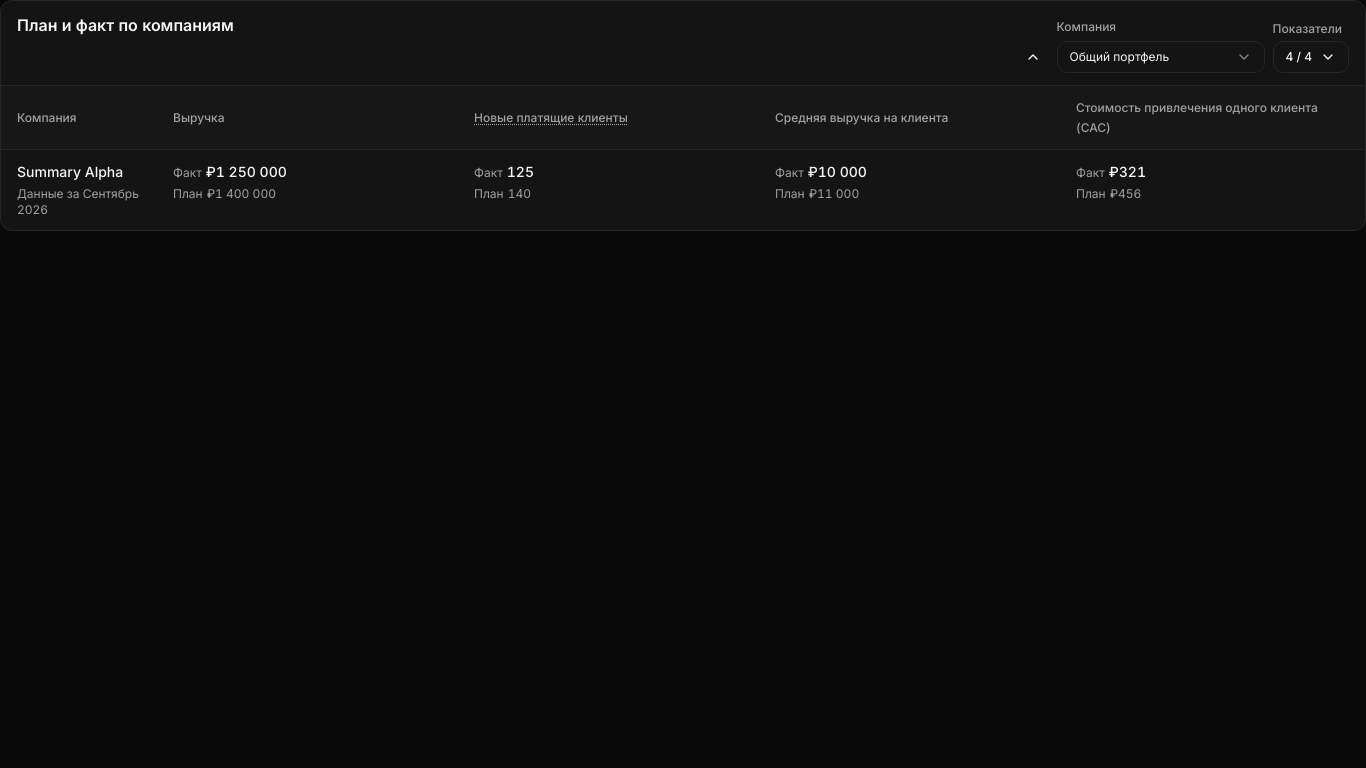
PortfolioPlanFactTable › uses Fact period instead of lastUpdate and explains business-model-dependent newUnits
The width and height of the screenshot is (1366, 768).
Click the button "Новые платящие клиенты" at [551, 118], box [474,108,628,127]
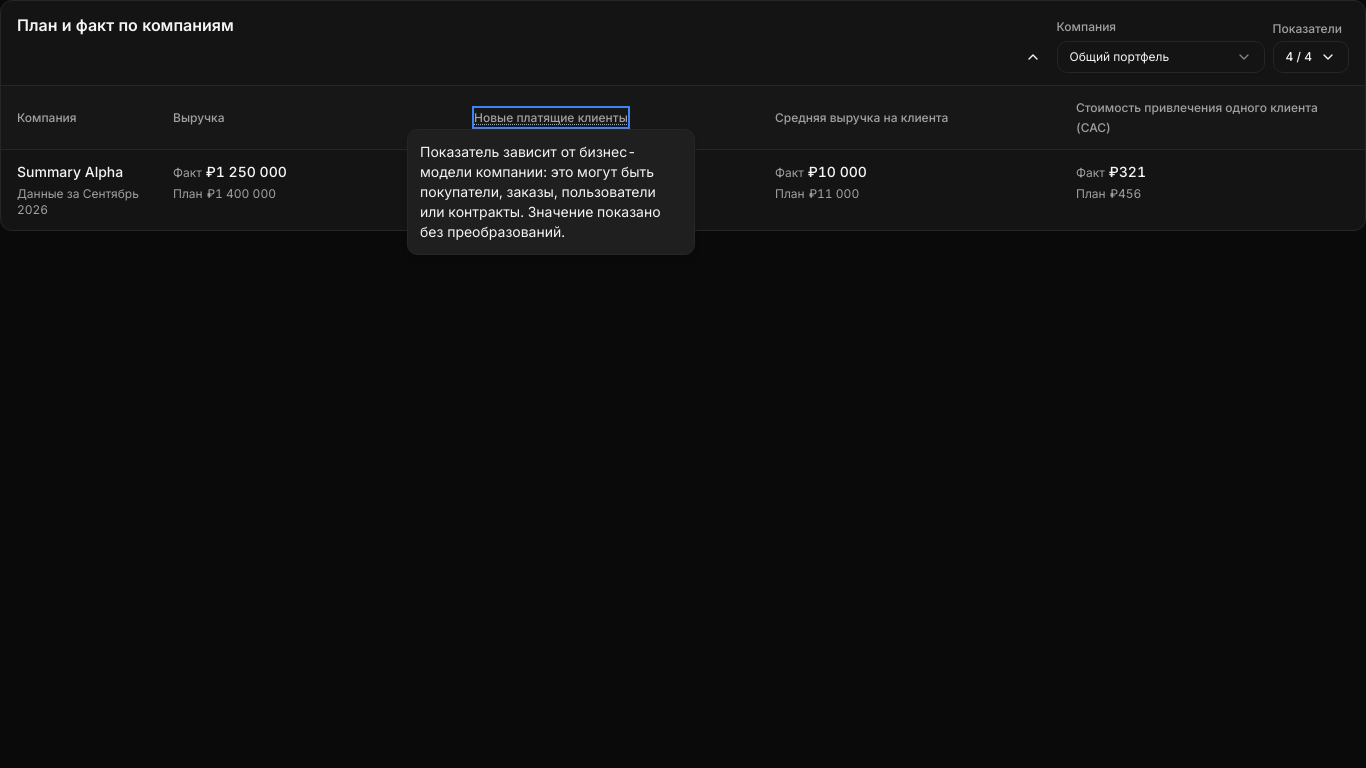
Now the text "это могут быть покупатели, заказы, пользователи или контракты" is shown, box [420,143,661,240]
